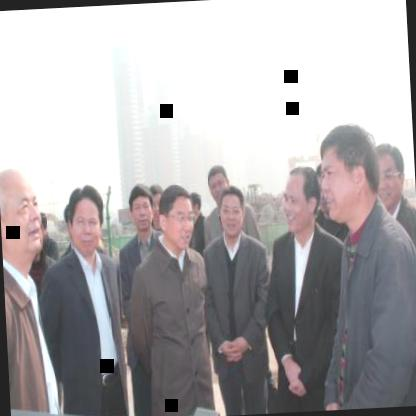head: (315, 117, 380, 226), (0, 155, 46, 270), (278, 158, 323, 237), (62, 179, 106, 258), (156, 180, 198, 250), (370, 135, 407, 213), (214, 183, 250, 242), (126, 179, 156, 237), (204, 158, 232, 204)
